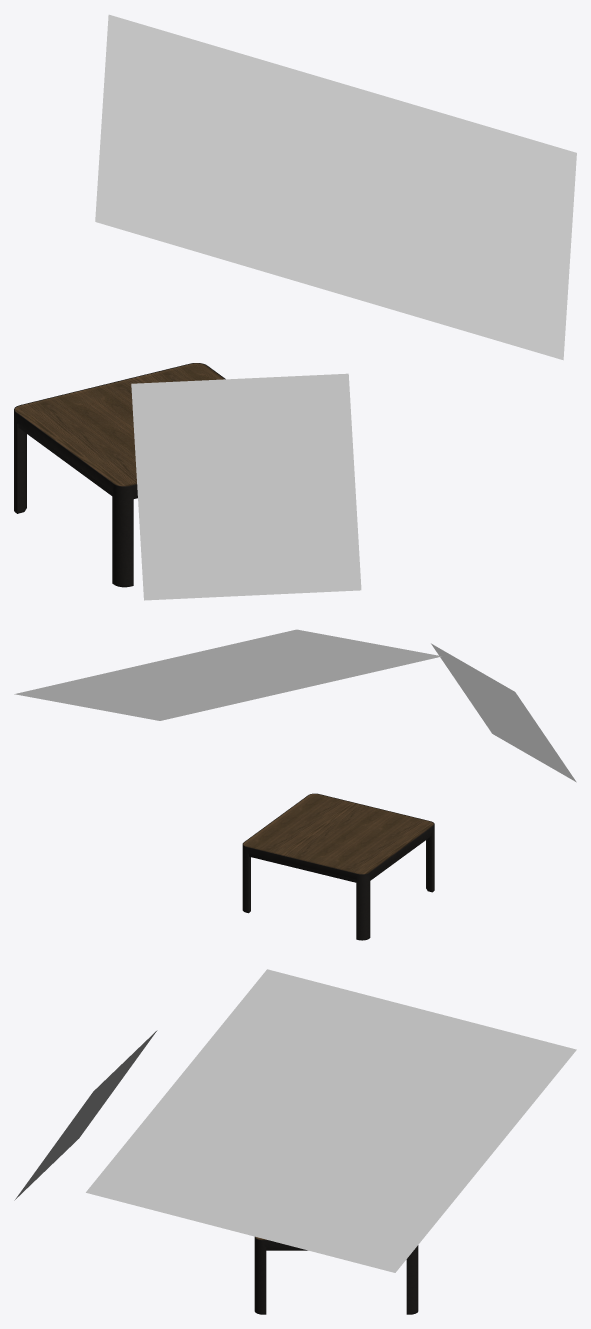
Rendered from figure.obj.
3 views of the same model, one above another, from view 1: azimuth 30°, elevation 25°; view 2: azimuth 150°, elevation 25°; view 3: azimuth 270°, elevation 25° (orthographic). The views are drawn at different scales.
Parts seen in each view (by area): view 1: Plane, Plane.001, Cube; view 2: Plane, Cube, Plane.001, Cube.002; view 3: Plane, Plane.001, Cube.
Part boxes in pixels (x1,y1,x2,y2): Plane: (95,14,576,360); Plane.001: (131,373,361,600); Cube: (14,363,225,587); Plane: (14,629,441,720); Cube: (242,793,434,940); Plane.001: (431,643,576,782); Cube.002: (249,833,431,882); Plane: (86,969,576,1272); Plane.001: (14,1030,157,1200); Cube: (254,1236,418,1314).
Size of what is drawn, in the model's own units: 2.36 by 1.27 by 2.4.
